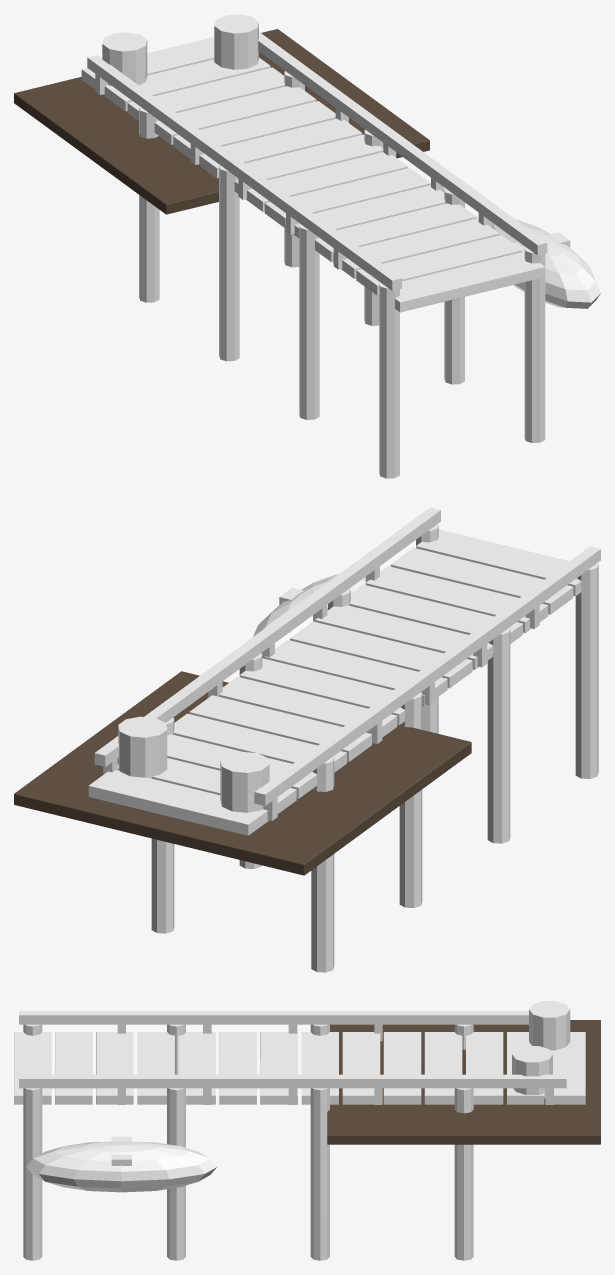
The model's file is iskele.glb.
The picture shows the model from 3 angles, top to bottom: view 1: azimuth 30°, elevation 25°; view 2: azimuth 150°, elevation 25°; view 3: azimuth 270°, elevation 25°; orthographic projection. The views are drawn at different scales.
Visible parts, largest first — view 1: Cone; view 2: Cone; view 3: Cone.
Boxes of the visible parts, x1,y1,x2,y2 form: Cone: (14, 14, 600, 478); Cone: (14, 507, 600, 972); Cone: (14, 1001, 600, 1260).
Bounding box in the file's own units: 0.8808 × 0.625 × 1.72.
